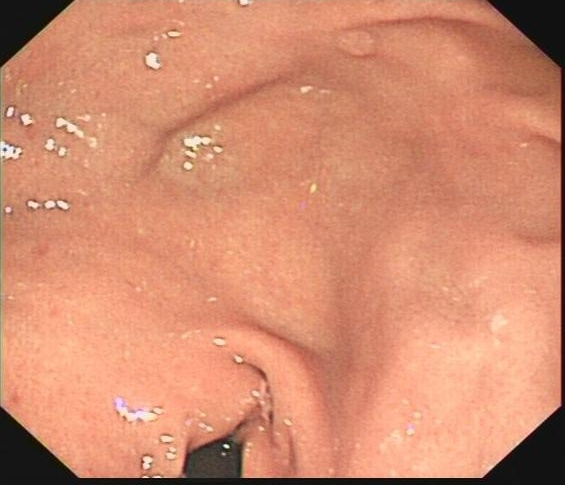Polyp: (325, 20, 395, 79)
